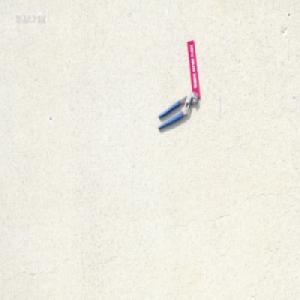Label: (187, 38, 200, 98)
Pliers: (157, 90, 198, 130)
